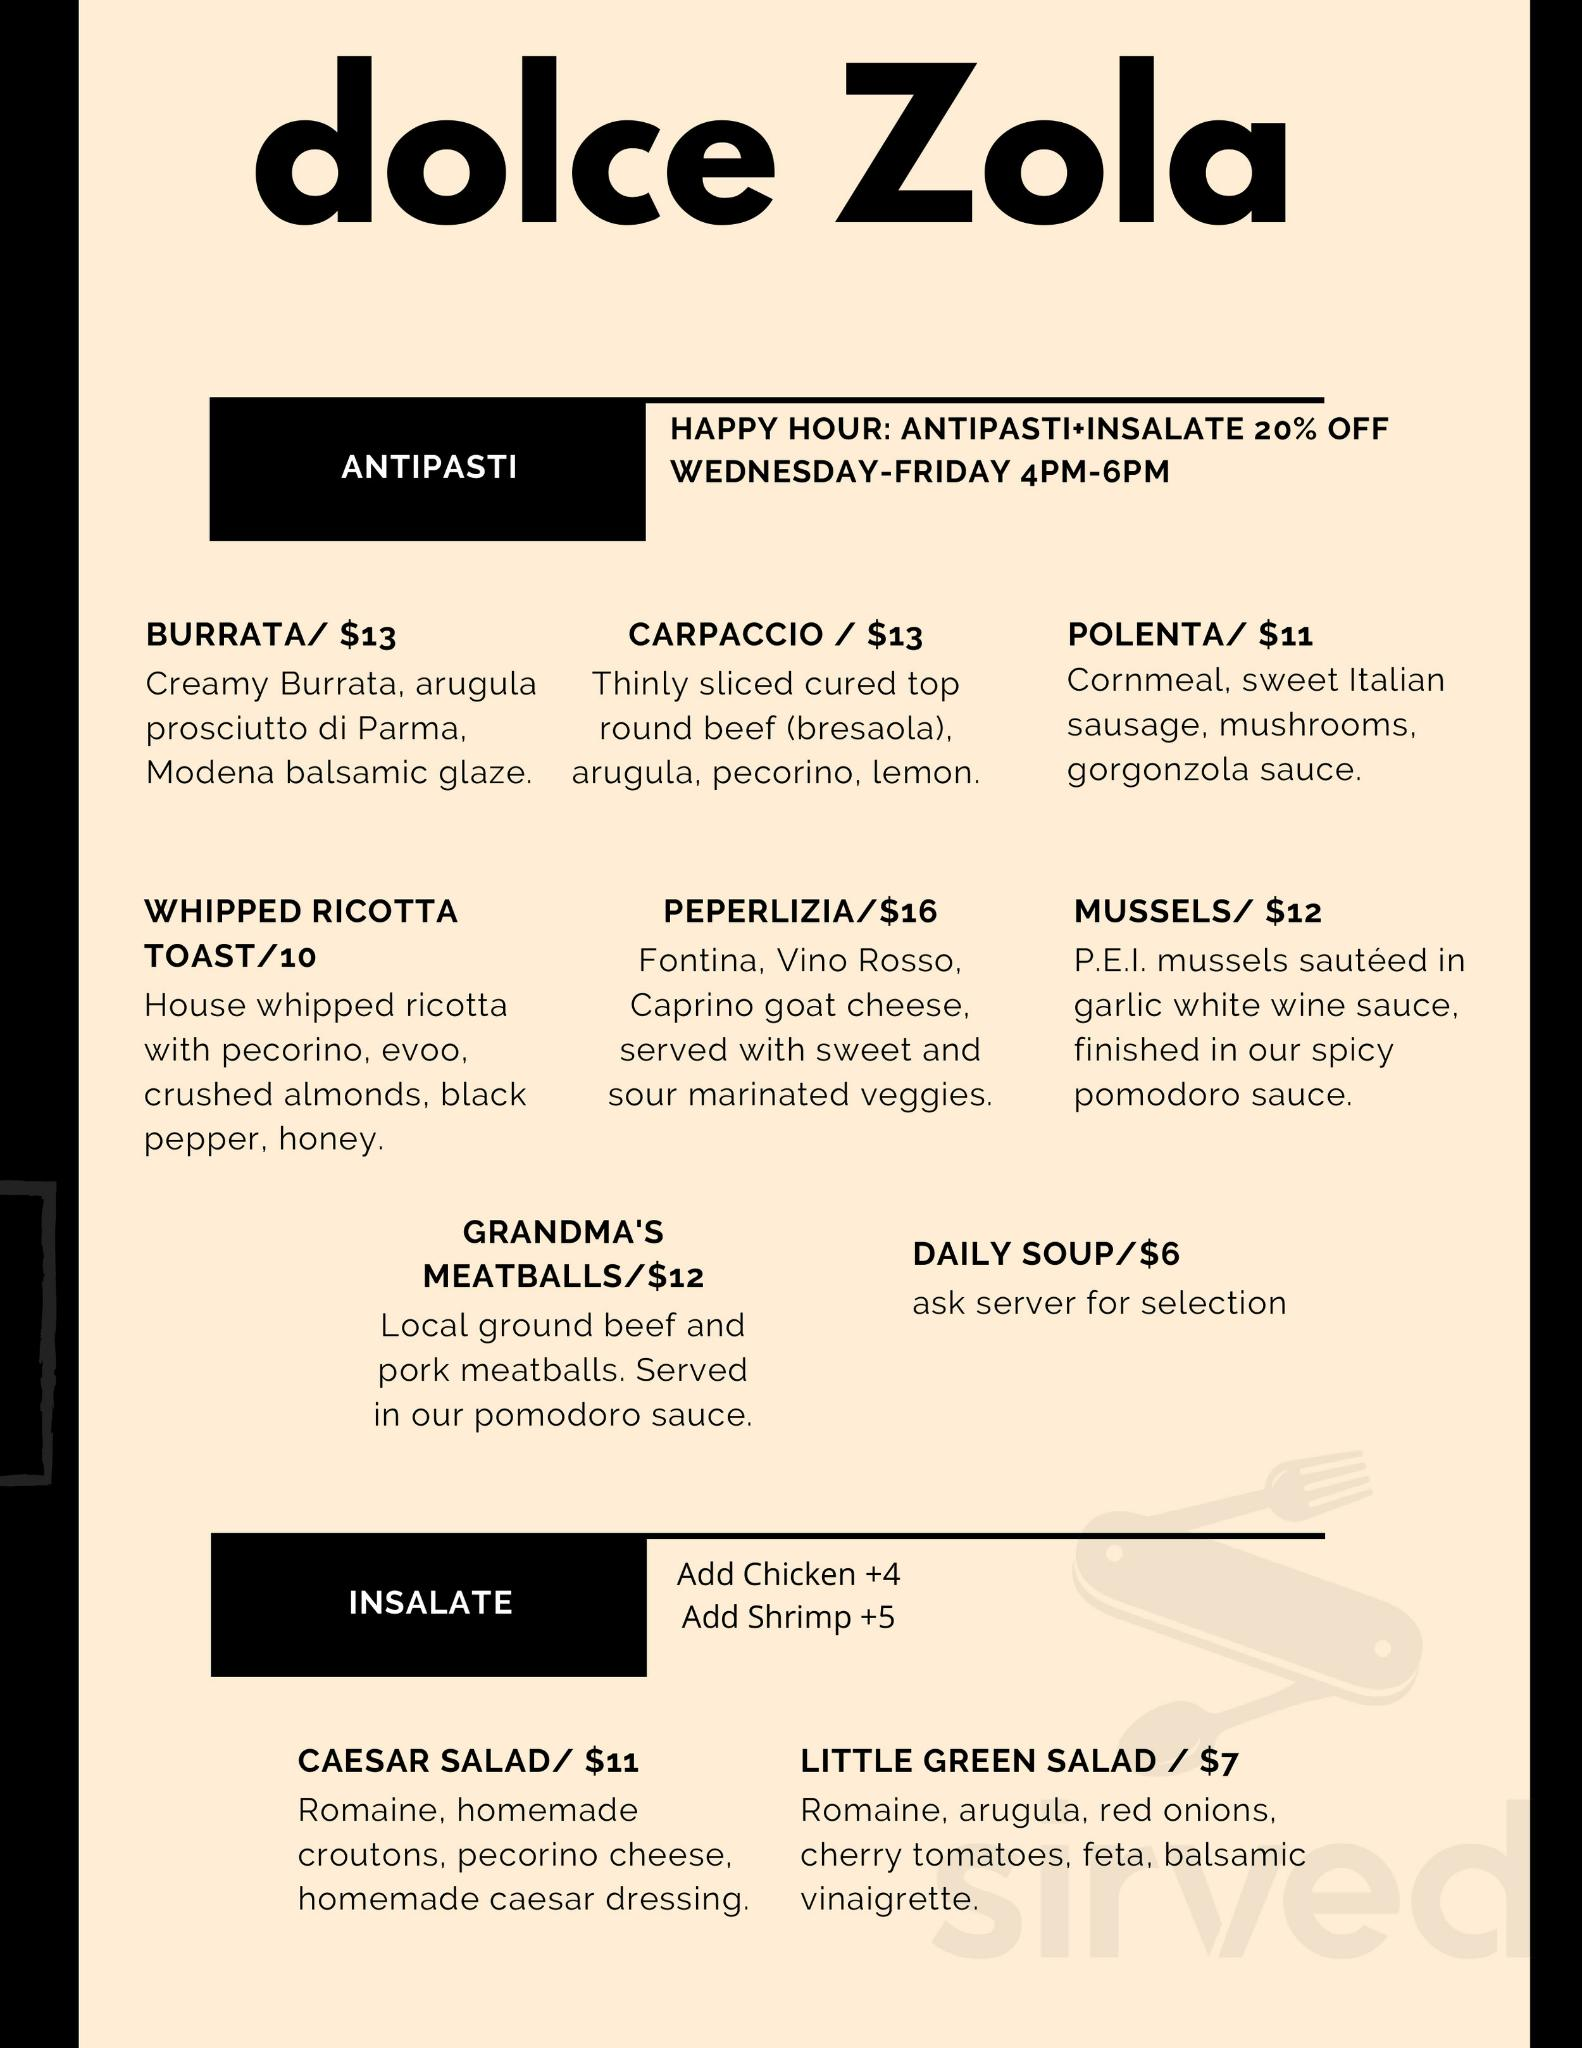Menu-Items: (110, 897, 563, 1169), (779, 1724, 1363, 1923), (347, 1196, 801, 1450), (238, 1726, 766, 1943), (1037, 880, 1487, 1128), (600, 899, 1020, 1123), (568, 603, 1000, 802), (1019, 603, 1472, 792), (834, 1198, 1358, 1359), (143, 605, 543, 796)
